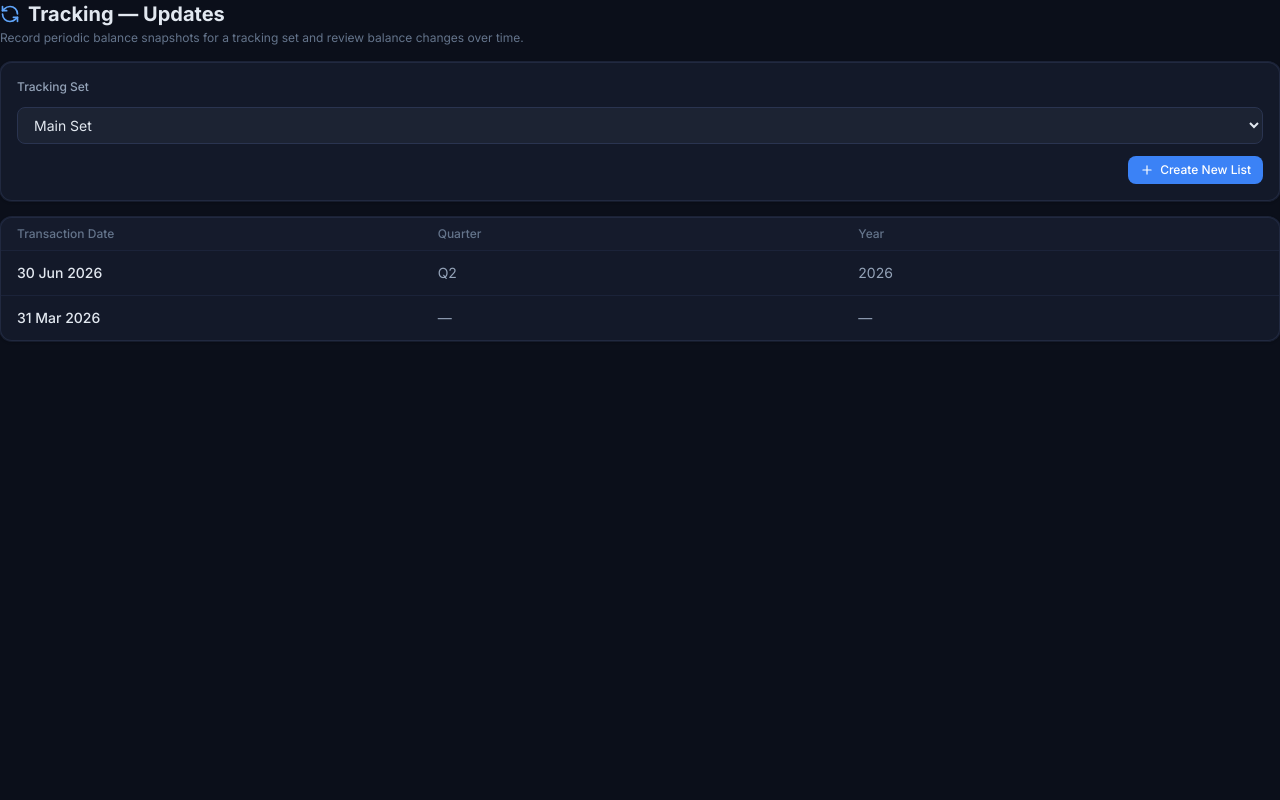
TrackingUpdatesPage — create update list › shows the backend error inline and keeps the modal open on failure
The width and height of the screenshot is (1280, 800).
Expected: the text "Q2" is shown, [438,264,457,281]
Click the button "Create New List" at [1196, 170], box [1128,156,1263,184]
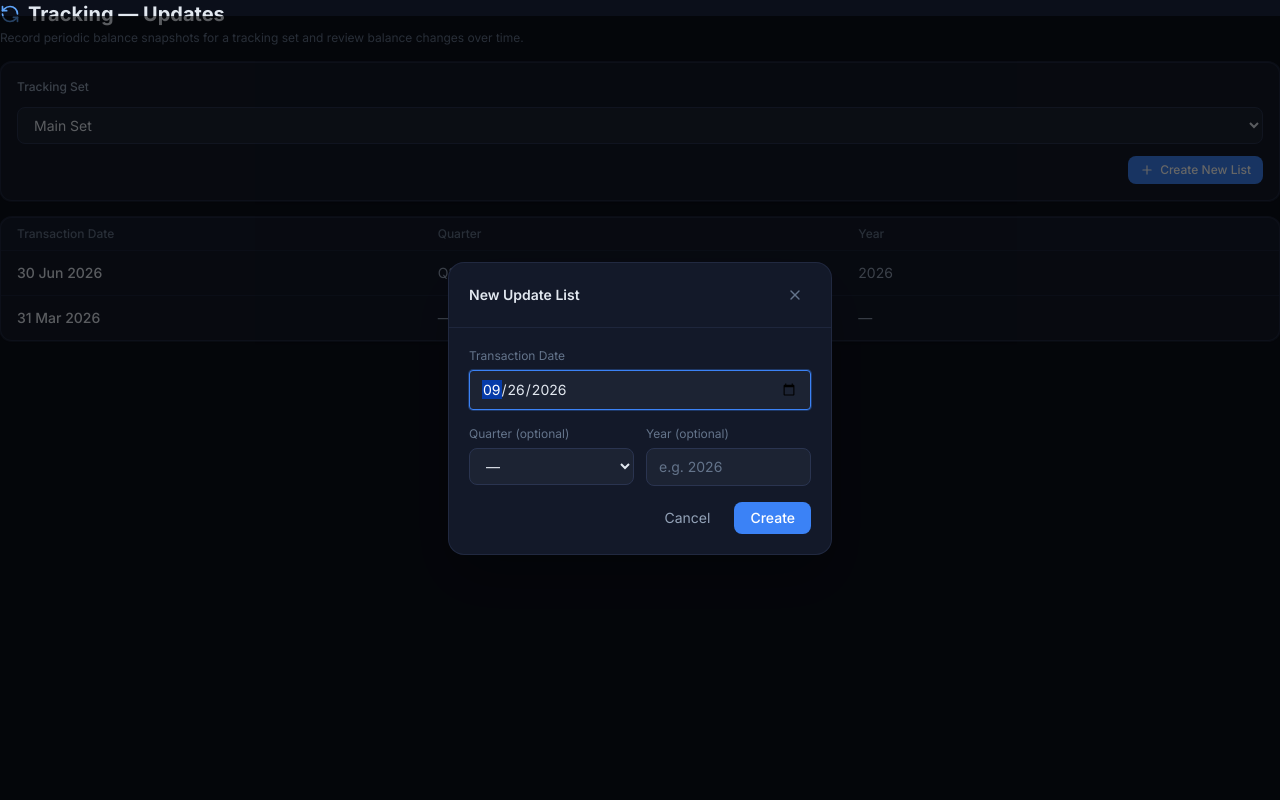
Click the button "Create" at [773, 518], box [734,502,811,534]
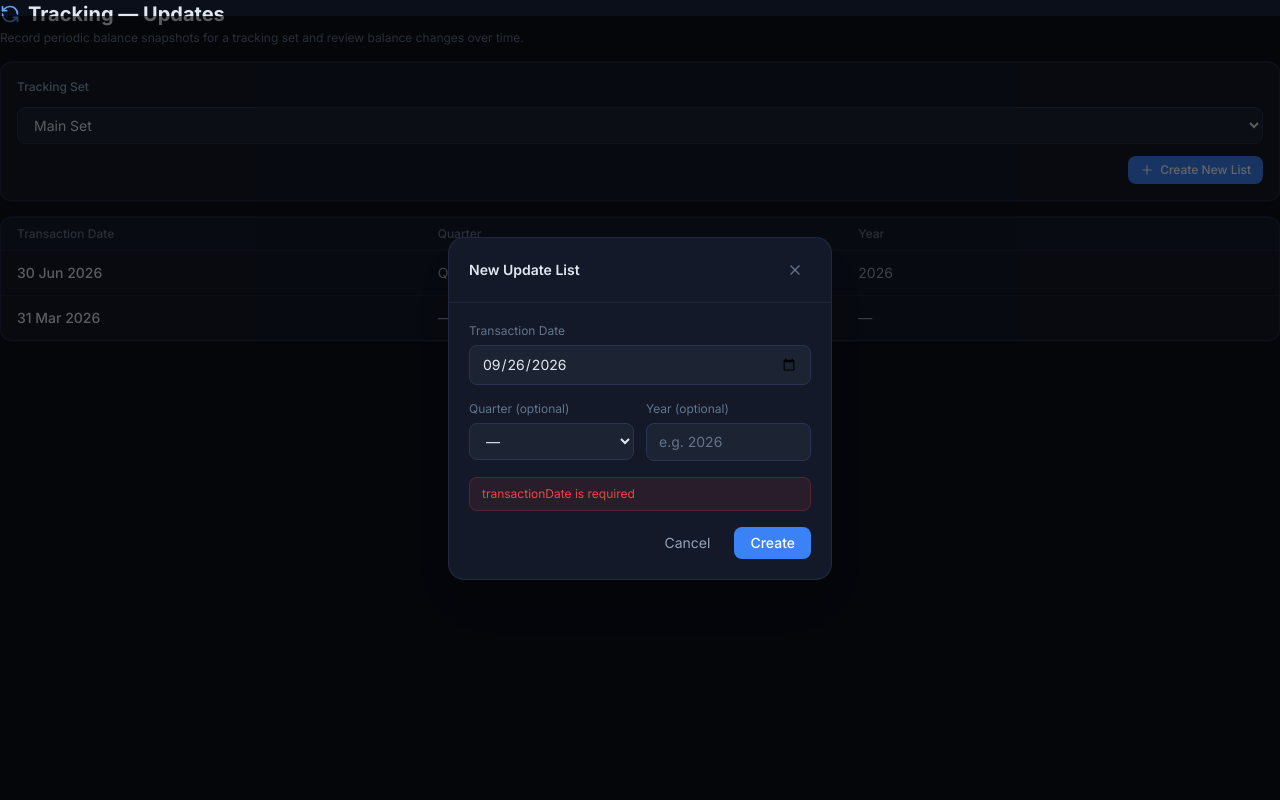
Expected: the text "transactionDate is required" is shown, [469,476,811,510]
